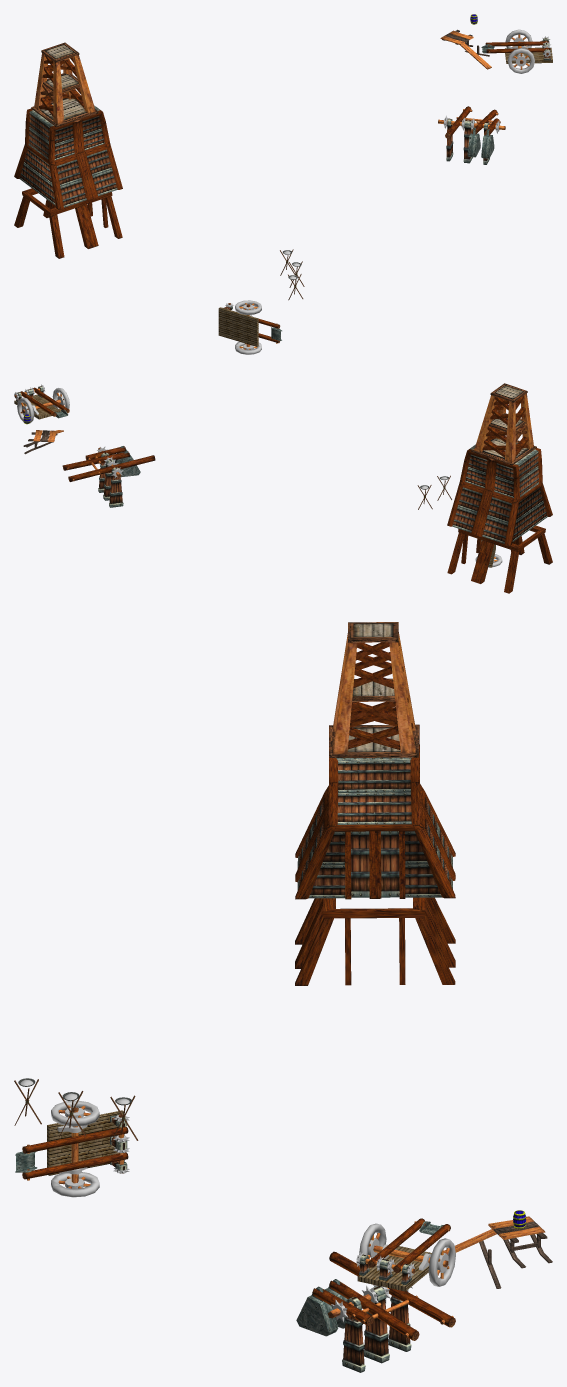
Rendered from CONTRAPTION4.obj.
3 renders of one model, top to bottom at view 1: azimuth 30°, elevation 25°; view 2: azimuth 150°, elevation 25°; view 3: azimuth 270°, elevation 25°, orthographic. The views are drawn at different scales.
Parts seen in each view (by area): view 1: con4_house04, con4_bigtower, con4_frame, con4_catabase01, con4_arm, 4_cata_wheels02, con4_cataarm02, 4_cata_wheels01, con4_brace, con4_catabase02; view 2: con4_house04, con4_bigtower, con4_frame, con4_arm, con4_brace, 4_cata_wheels02, con4_cataarm02, con4_catabase02, con4_platform; view 3: con4_house04, con4_bigtower, con4_frame, con4_arm, con4_brace, con4_catabase01, con4_cataarm01, 4_cata_wheels01, 4_cata_wheels02, con4_catabase02, con4_door1, con4_door2 (+3 smaller).
Boxes of the visible parts, x1,y1,x2,y2 form: con4_house04: [14, 105, 122, 209]; con4_bigtower: [31, 42, 98, 127]; con4_frame: [14, 188, 122, 258]; con4_catabase01: [218, 306, 258, 346]; con4_arm: [438, 106, 505, 138]; 4_cata_wheels02: [505, 29, 534, 73]; con4_cataarm02: [481, 36, 551, 57]; 4_cata_wheels01: [235, 300, 261, 354]; con4_brace: [446, 118, 489, 164]; con4_catabase02: [505, 38, 552, 63]; con4_house04: [447, 444, 552, 546]; con4_bigtower: [471, 383, 536, 465]; con4_frame: [447, 525, 552, 593]; con4_arm: [62, 446, 155, 481]; con4_brace: [98, 452, 123, 507]; 4_cata_wheels02: [17, 388, 69, 423]; con4_cataarm02: [14, 384, 69, 418]; con4_catabase02: [14, 386, 61, 419]; con4_platform: [24, 430, 56, 454]; con4_house04: [295, 724, 455, 899]; con4_bigtower: [329, 622, 419, 757]; con4_frame: [295, 897, 455, 985]; con4_arm: [312, 1251, 455, 1340]; con4_brace: [342, 1286, 411, 1372]; con4_catabase01: [47, 1110, 127, 1175]; con4_cataarm01: [15, 1114, 129, 1180]; 4_cata_wheels01: [51, 1100, 99, 1197]; 4_cata_wheels02: [359, 1223, 455, 1286]; con4_catabase02: [357, 1244, 431, 1291]; con4_door1: [375, 831, 399, 898]; con4_door2: [350, 831, 375, 898].
Size of the model in its own units: 5263 by 2532 by 2633.
